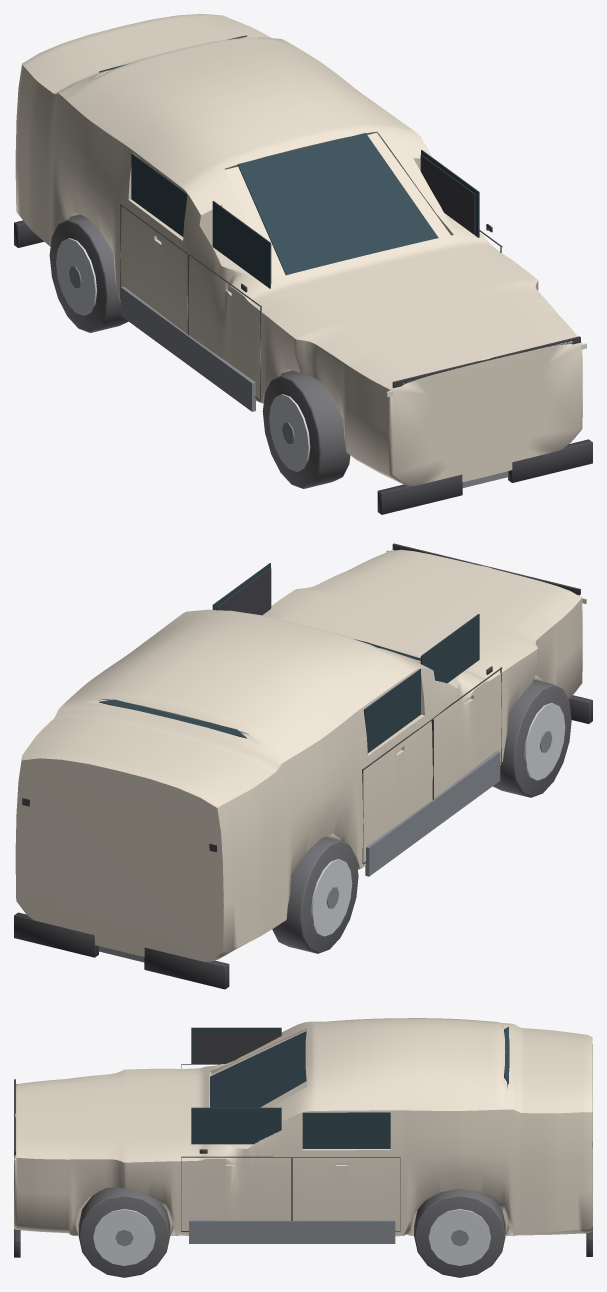
File: Crossover_Compact_24.fbx
3 views of the same model, one above another, from view 1: azimuth 30°, elevation 25°; view 2: azimuth 150°, elevation 25°; view 3: azimuth 270°, elevation 25° (orthographic). The views are drawn at different scales.
Visible parts, largest first — view 1: LOD0; view 2: LOD0; view 3: LOD0.
Part boxes in pixels (x1=…): LOD0: x1=14, y1=14, x2=592, y2=514; LOD0: x1=14, y1=543, x2=592, y2=989; LOD0: x1=14, y1=1018, x2=592, y2=1277.
Size of what is drawn, in the model's own units: 189 by 168 by 466.
